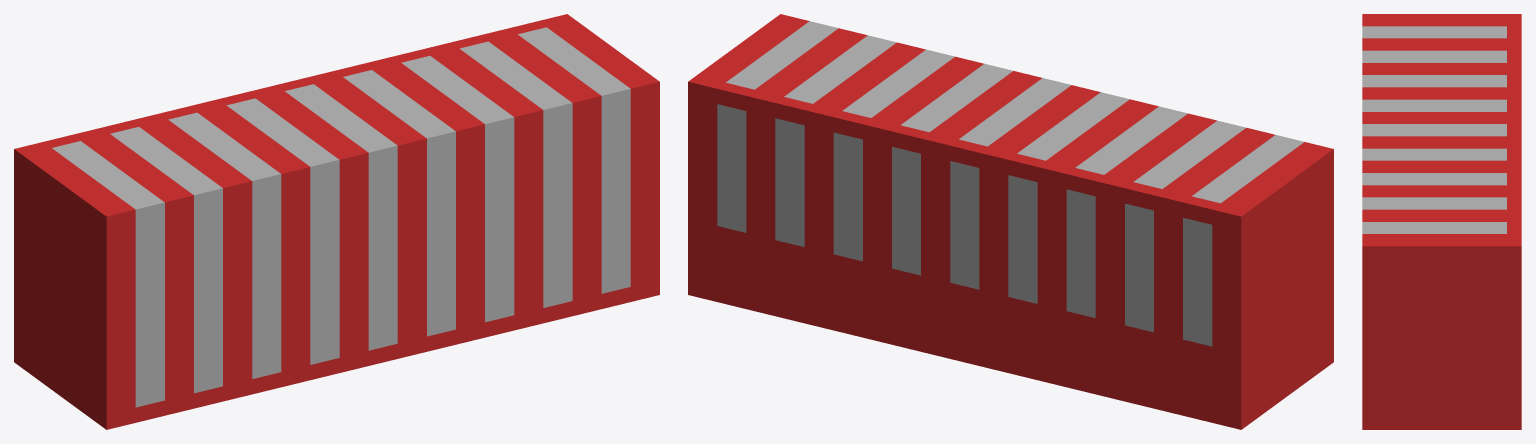
File: files_box_05.glb
3 renders of one model, left to right at view 1: azimuth 30°, elevation 25°; view 2: azimuth 150°, elevation 25°; view 3: azimuth 270°, elevation 25°, orthographic. The views are drawn at different scales.
Parts seen in each view (by area): view 1: Untitled; view 2: Untitled; view 3: Untitled.
Part boxes in pixels (bbox=[...]): Untitled: bbox=[14, 14, 659, 429]; Untitled: bbox=[688, 14, 1333, 429]; Untitled: bbox=[1362, 14, 1521, 429].
Size of the model in its own units: 1.14 by 0.42 by 0.33.
Materials: 1 (1 with a texture image).
